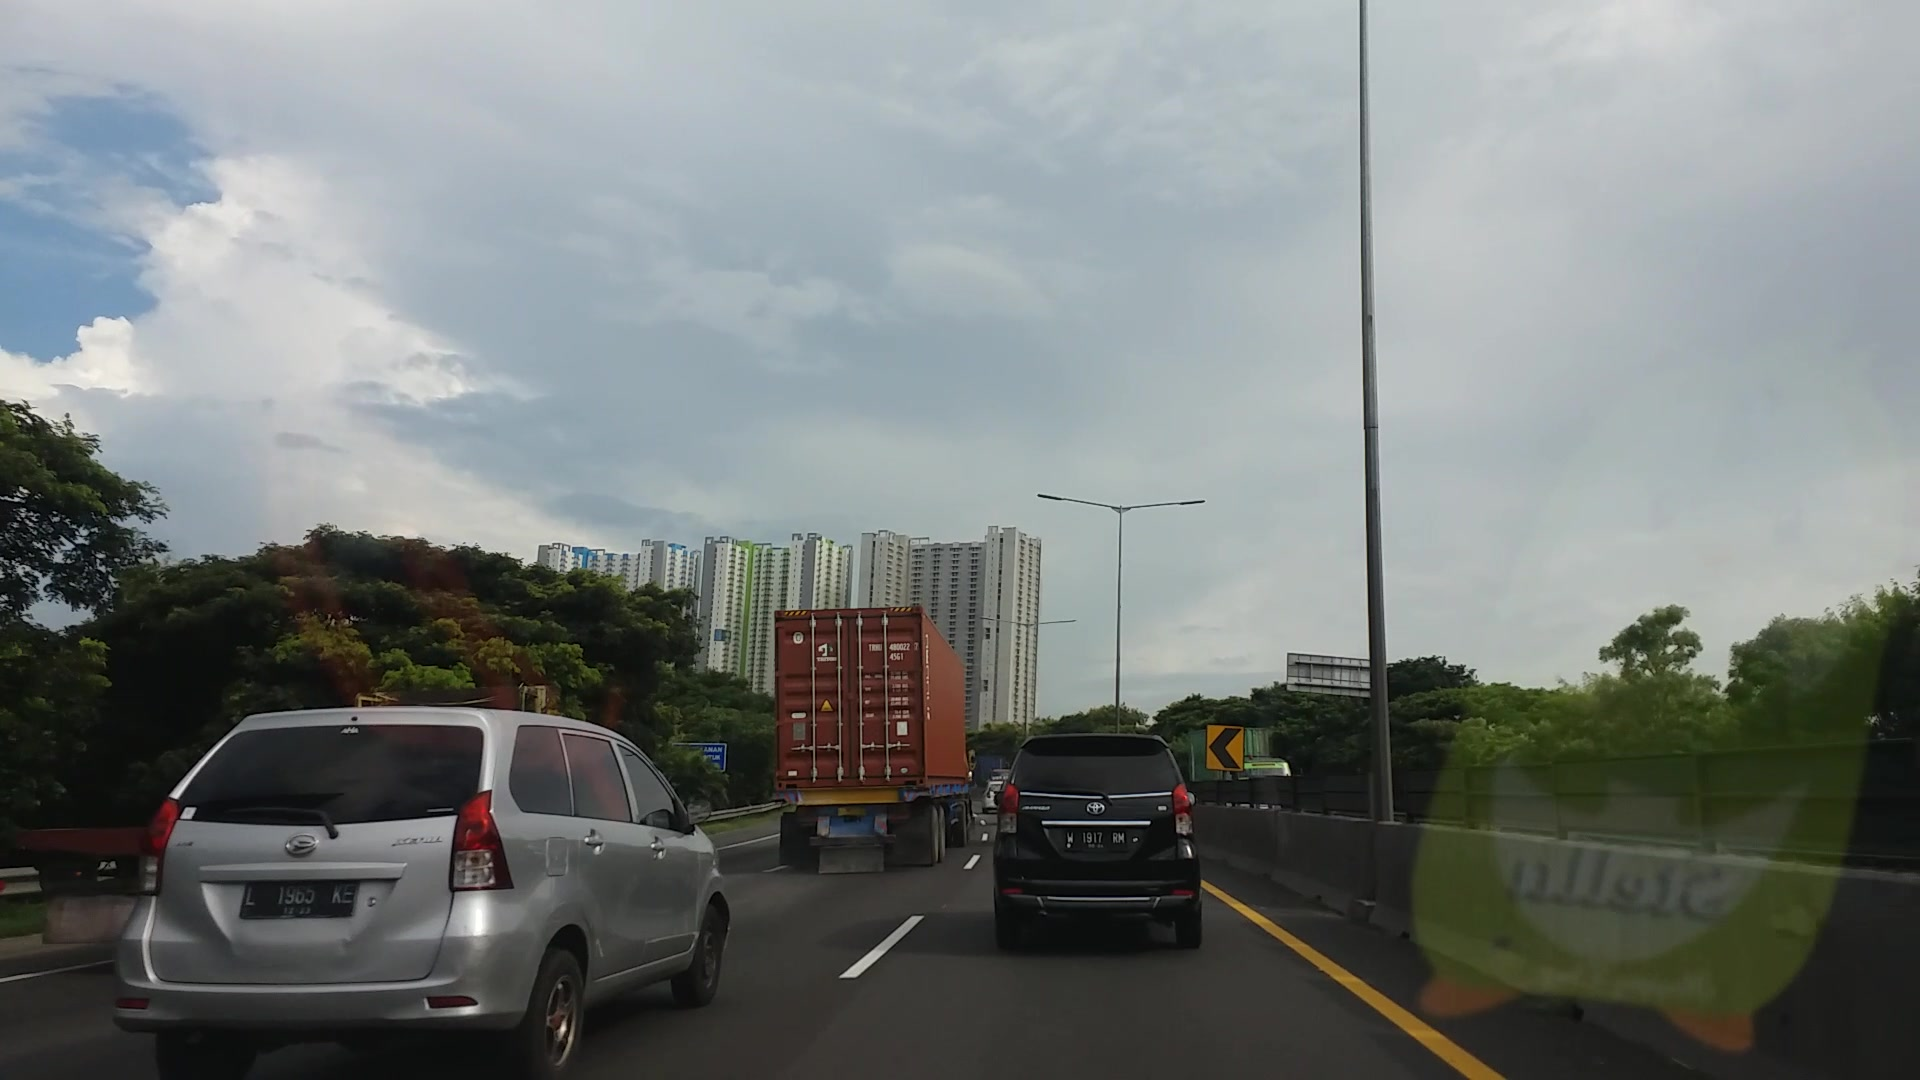plate_positive: (240, 881, 355, 916), (1065, 828, 1127, 852)
